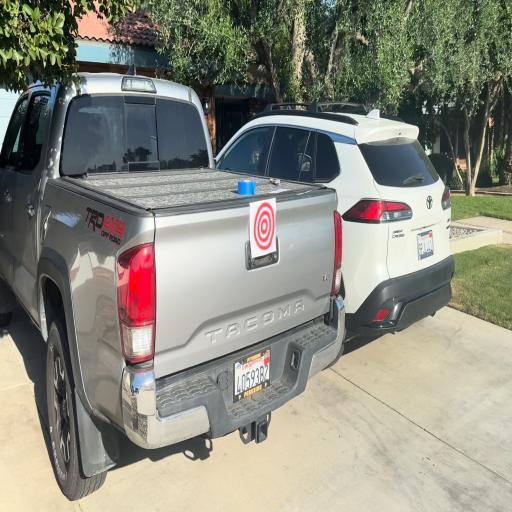bullseye: (250, 199, 276, 258)
